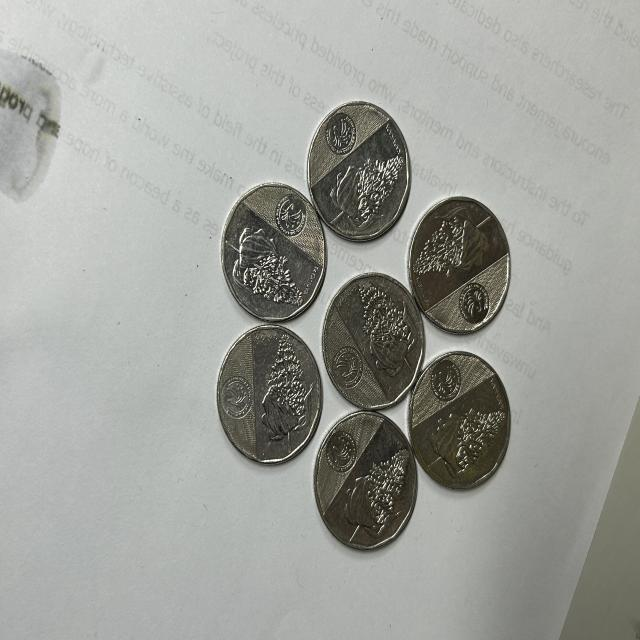10_New_Back: (234, 218, 308, 306), (354, 284, 420, 382), (429, 398, 504, 484), (260, 329, 313, 450), (341, 444, 414, 530), (411, 212, 489, 286), (330, 157, 396, 234)
